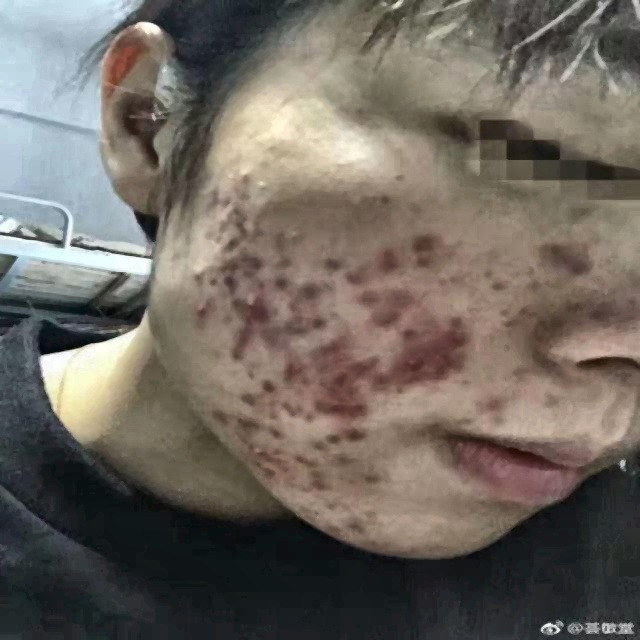nodule: (554, 236, 604, 288), (218, 331, 273, 376), (407, 220, 453, 266), (225, 163, 284, 198), (510, 257, 558, 300), (316, 323, 360, 368), (433, 306, 479, 347), (256, 448, 303, 486), (236, 273, 272, 313), (233, 252, 282, 280), (328, 420, 363, 459), (307, 474, 347, 508), (488, 302, 536, 330), (476, 265, 515, 296), (232, 211, 272, 241), (298, 445, 336, 476), (304, 424, 343, 453), (210, 229, 250, 257), (376, 537, 416, 564), (369, 366, 406, 394), (275, 316, 318, 340), (210, 252, 237, 290), (178, 260, 214, 288), (254, 398, 289, 426), (242, 369, 278, 396), (354, 466, 394, 490), (274, 264, 300, 300), (278, 222, 314, 248), (345, 392, 377, 421), (466, 391, 510, 412), (354, 504, 388, 531), (400, 353, 433, 380), (316, 394, 349, 421), (384, 286, 418, 312), (314, 518, 345, 546), (394, 324, 430, 347), (267, 344, 303, 367), (316, 249, 350, 273), (339, 517, 373, 541), (369, 245, 404, 268), (303, 275, 337, 297), (286, 389, 307, 424), (428, 343, 454, 371), (369, 303, 400, 326), (339, 262, 371, 284), (227, 408, 258, 430), (209, 202, 238, 224), (338, 357, 374, 374), (205, 185, 233, 205), (183, 298, 210, 318), (324, 376, 348, 398), (205, 401, 225, 426), (254, 424, 275, 445), (238, 384, 254, 410), (354, 282, 369, 309)
